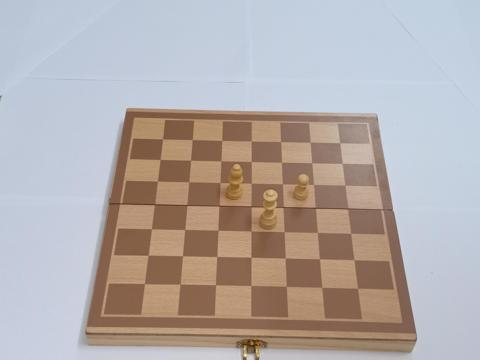xcorner: (248, 136, 258, 146), (248, 179, 258, 189), (151, 200, 160, 210), (148, 225, 157, 235), (187, 156, 197, 165), (185, 178, 195, 187), (184, 201, 193, 211), (182, 226, 191, 236), (179, 253, 189, 262), (177, 281, 186, 291), (219, 135, 228, 145), (218, 156, 227, 166), (213, 282, 222, 292), (248, 157, 258, 166), (248, 203, 258, 212), (248, 228, 258, 237), (248, 255, 258, 264), (248, 283, 258, 292), (280, 180, 289, 190), (283, 255, 292, 265), (309, 159, 319, 168), (317, 256, 326, 266), (345, 205, 354, 215), (348, 230, 357, 240), (351, 257, 361, 266), (355, 285, 364, 295), (159, 134, 168, 143), (157, 155, 166, 164), (154, 177, 163, 186), (145, 252, 154, 261), (141, 281, 150, 290), (189, 135, 198, 144), (217, 179, 226, 188), (216, 202, 225, 211), (215, 227, 224, 236), (214, 254, 223, 263), (278, 137, 287, 146), (279, 158, 288, 167), (281, 204, 290, 213), (282, 229, 291, 238), (284, 284, 293, 293), (308, 138, 317, 147), (311, 181, 320, 190), (313, 205, 322, 214), (315, 230, 324, 239), (320, 285, 329, 294), (337, 139, 346, 148), (340, 160, 349, 169), (342, 182, 351, 191)
